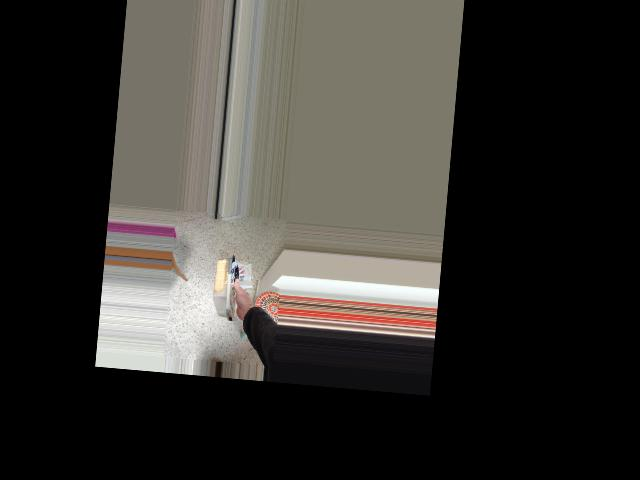cheese: (205, 254, 276, 327)
